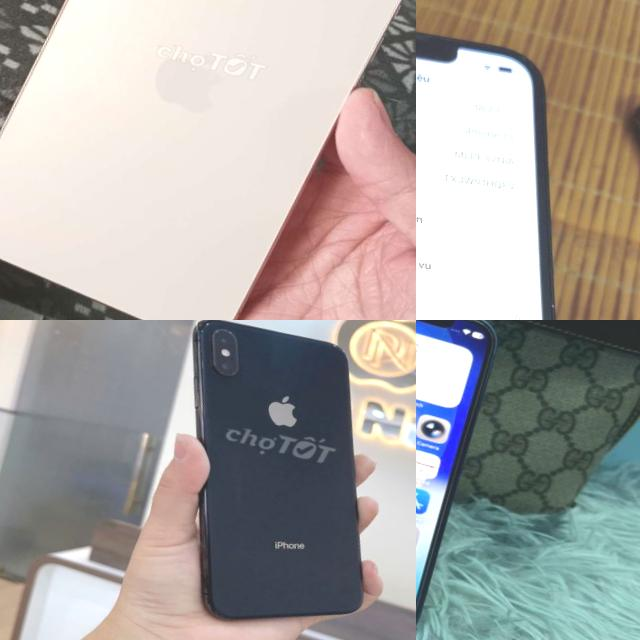gen_12_13: (416, 0, 640, 320), (416, 320, 504, 640)
gen_16: (0, 0, 400, 320)
gen_x_xs: (192, 320, 362, 618)
scratch: (230, 368, 242, 380), (212, 327, 221, 334), (227, 331, 236, 336)
